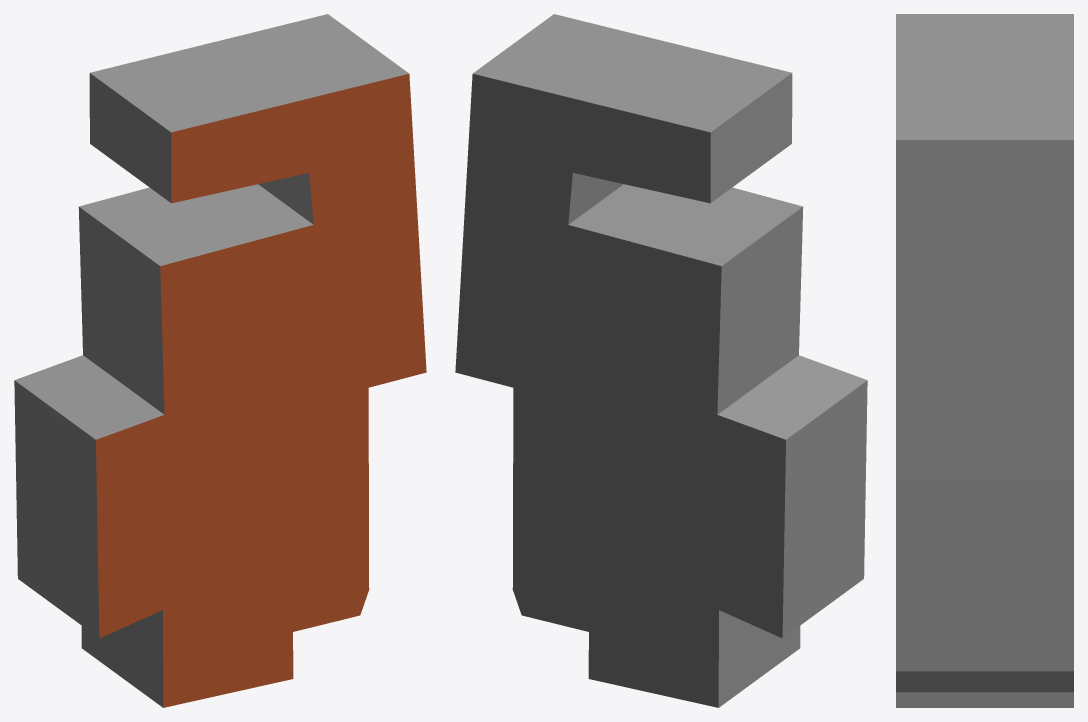
The model's file is construction_3743_assumed_A_Casa_h6m.obj.
The picture shows the model from 3 angles, left to right: view 1: azimuth 30°, elevation 25°; view 2: azimuth 150°, elevation 25°; view 3: azimuth 270°, elevation 25°; orthographic projection. The views are drawn at different scales.
Parts seen in each view (by area): view 1: construction_3743_assumed_A_Casa; view 2: construction_3743_assumed_A_Casa; view 3: construction_3743_assumed_A_Casa.
Part boxes in pixels (x1,y1,x2,y2): construction_3743_assumed_A_Casa: [14, 14, 426, 707]; construction_3743_assumed_A_Casa: [455, 14, 867, 707]; construction_3743_assumed_A_Casa: [896, 14, 1073, 707].
Bounding box in the file's own units: 14.05 × 23.43 × 6.
